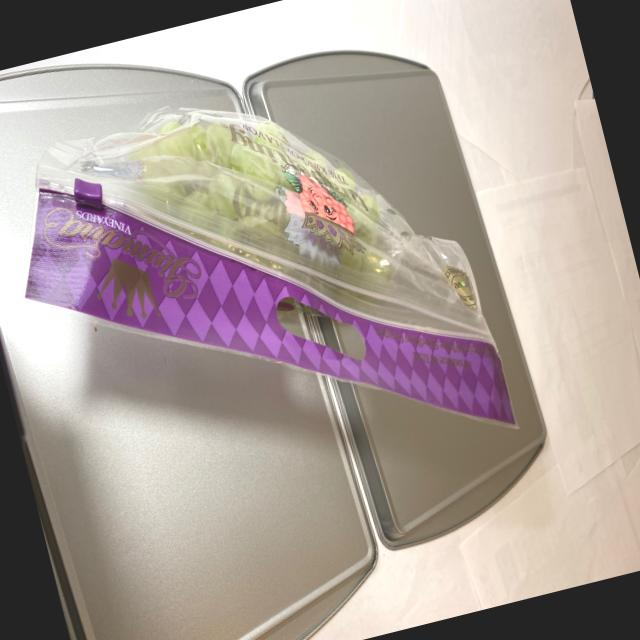grapes: (114, 58, 426, 340)
